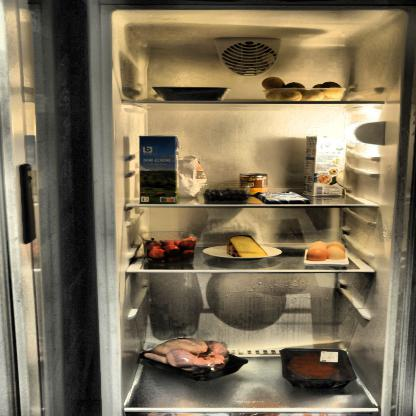beef: (282, 349, 347, 382)
blueberries: (202, 187, 250, 202)
cheese: (225, 234, 270, 258)
chicken: (140, 336, 232, 376)
chocolate: (255, 189, 307, 204)
corn: (238, 172, 265, 196)
eggs: (302, 241, 348, 263)
milk: (139, 136, 179, 205), (303, 136, 346, 197)
potato: (259, 76, 345, 102)
strawberries: (145, 233, 197, 264)
